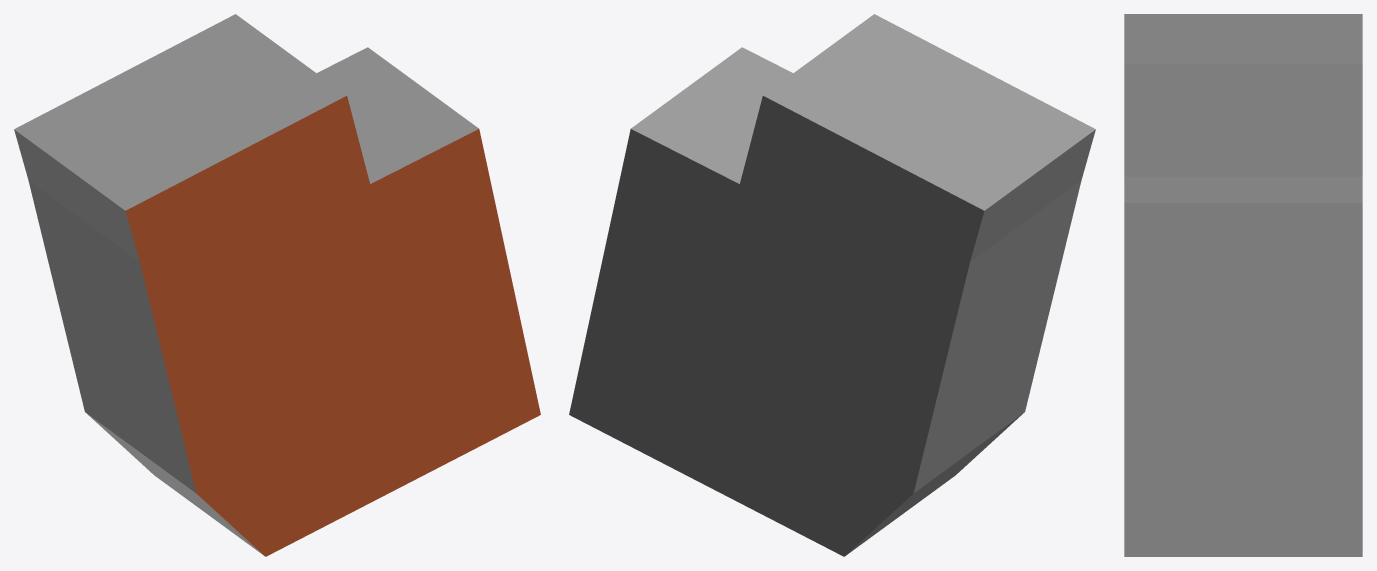
The model's file is construction_1668_assumed_A_Casa_h6m.obj.
3 renders of one model, left to right at view 1: azimuth 30°, elevation 25°; view 2: azimuth 150°, elevation 25°; view 3: azimuth 270°, elevation 25°, orthographic. The views are drawn at different scales.
Parts seen in each view (by area): view 1: construction_1668_assumed_A_Casa; view 2: construction_1668_assumed_A_Casa; view 3: construction_1668_assumed_A_Casa.
Part boxes in pixels (bbox=[...]): construction_1668_assumed_A_Casa: bbox=[14, 14, 540, 556]; construction_1668_assumed_A_Casa: bbox=[569, 14, 1095, 556]; construction_1668_assumed_A_Casa: bbox=[1124, 14, 1362, 556].
Size of the model in its own units: 12.91 by 13.11 by 6.
